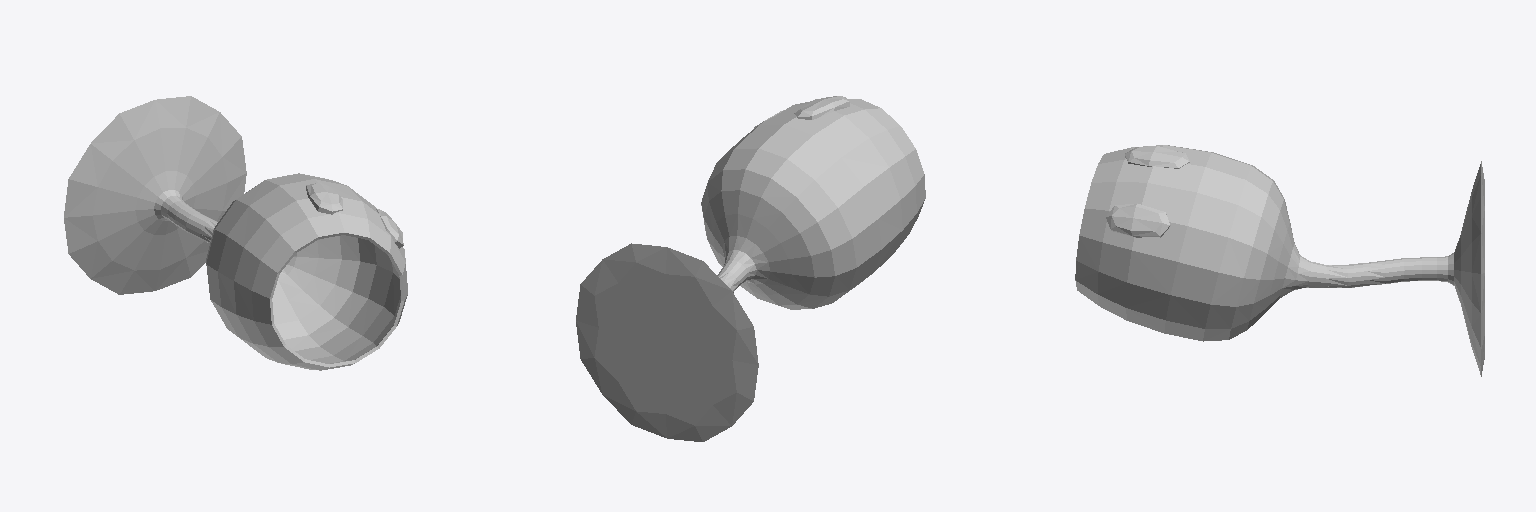
Rendered from animation_000014.obj.
The picture shows the model from 3 angles: view 1: azimuth 30°, elevation 25°; view 2: azimuth 150°, elevation 25°; view 3: azimuth 270°, elevation 25°; orthographic projection.
Size of the model in its own units: 2.06 by 2.35 by 4.